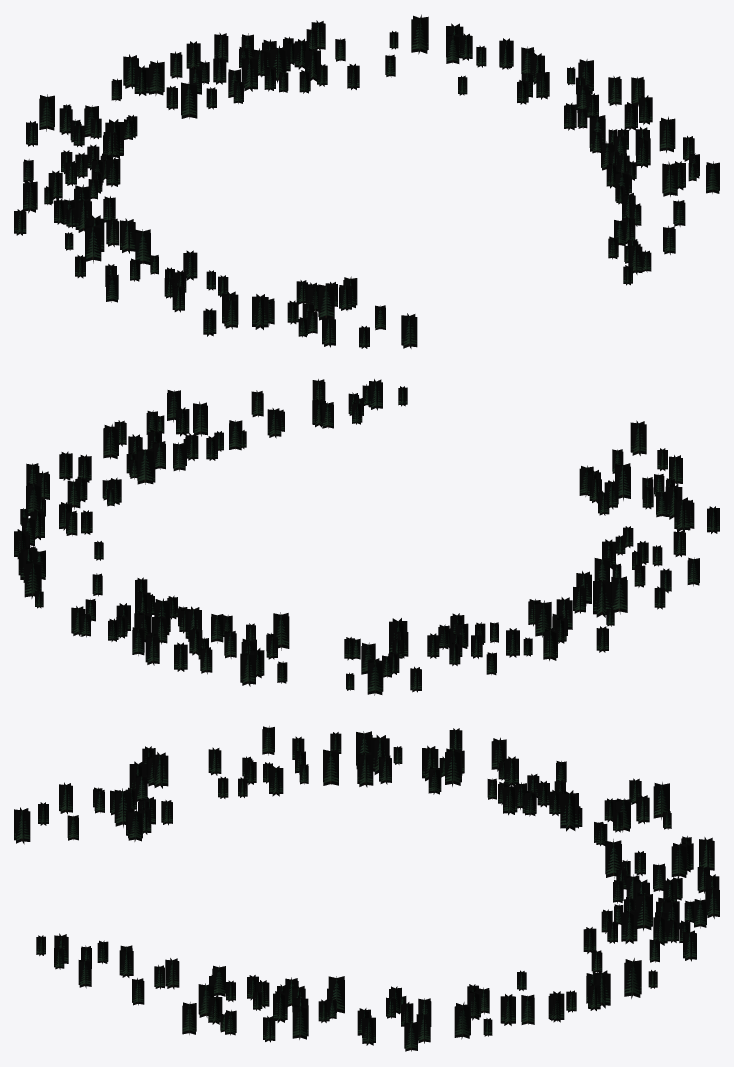
File: bv_forest.glb
3 views of the same model, one above another, from view 1: azimuth 30°, elevation 25°; view 2: azimuth 150°, elevation 25°; view 3: azimuth 270°, elevation 25° (orthographic). The views are drawn at different scales.
Visible parts, largest first — view 1: pinecard; view 2: pinecard; view 3: pinecard.
Part boxes in pixels (x1,y1,x2,y2): pinecard: (14,14,719,348); pinecard: (14,379,719,695); pinecard: (14,726,719,1051).
Size of the model in its own units: 393 by 20.95 by 388.
Materials: 1 (1 with a texture image).
